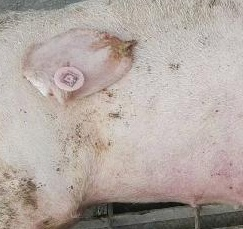text: (41, 51, 94, 101)
